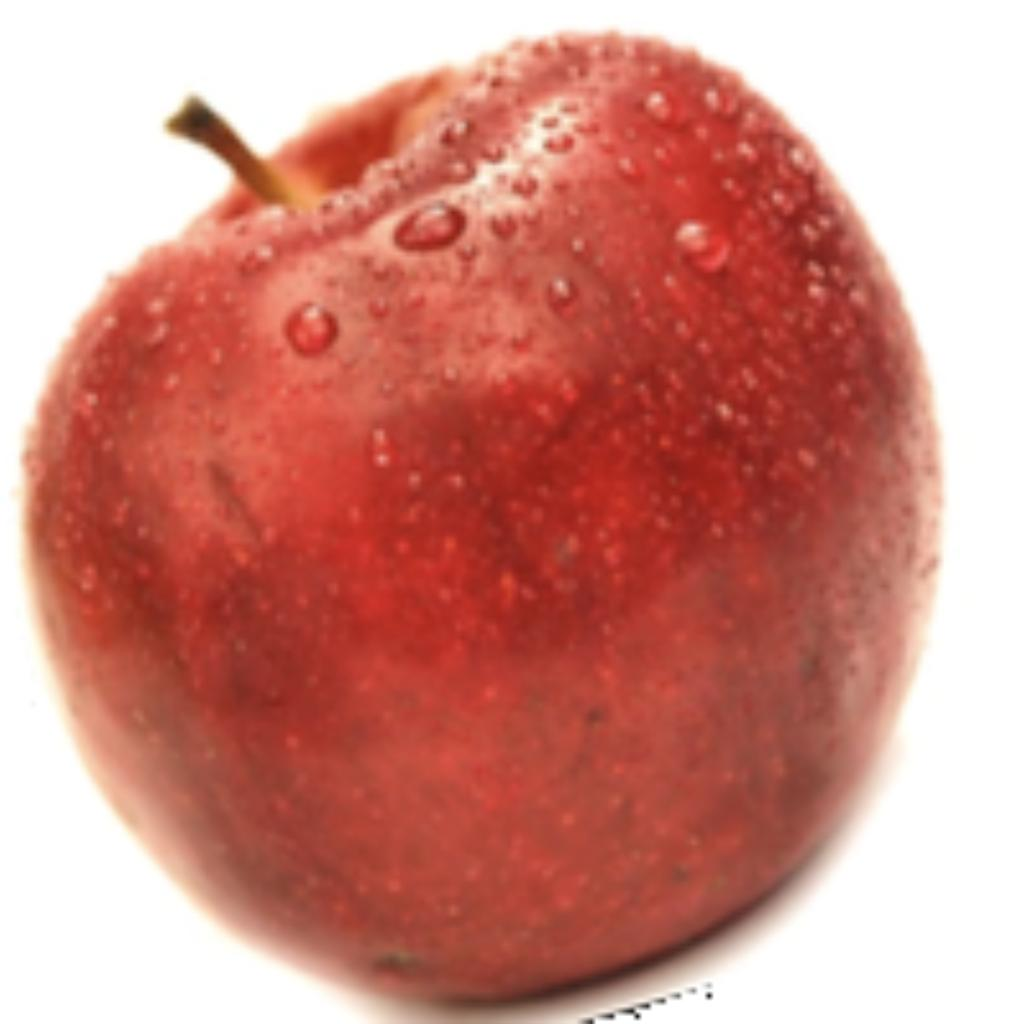apple: (5, 20, 947, 1019)
